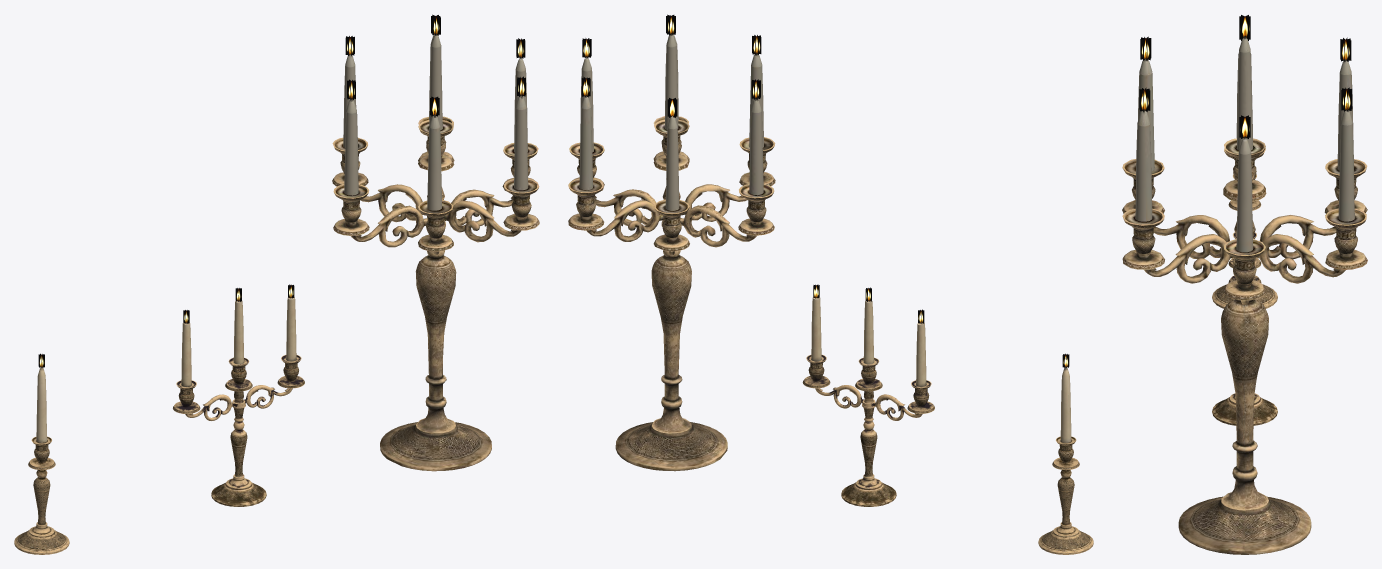
Rendered from brass_candleholders.glb.
The picture shows the model from 3 angles, left to right: view 1: azimuth 30°, elevation 25°; view 2: azimuth 150°, elevation 25°; view 3: azimuth 270°, elevation 25°; orthographic projection. The views are drawn at different scales.
Visible parts, largest first — view 1: brass_candleholder_03, brass_candleholder_02, brass_candleholder_01; view 2: brass_candleholder_03, brass_candleholder_02, brass_candleholder_01; view 3: brass_candleholder_03, brass_candleholder_02, brass_candleholder_01.
Part boxes in pixels (x1,y1,x2,y2): brass_candleholder_03: (332,14,539,471); brass_candleholder_02: (173,284,304,506); brass_candleholder_01: (14,353,69,554); brass_candleholder_03: (568,14,775,471); brass_candleholder_02: (802,284,934,506); brass_candleholder_01: (1038,353,1093,554); brass_candleholder_03: (1122,15,1367,554); brass_candleholder_02: (1212,232,1277,425); brass_candleholder_01: (1212,174,1277,308).
Size of the model in its own units: 1.05 by 0.8353 by 0.3644.
5 materials, 5 textured.
